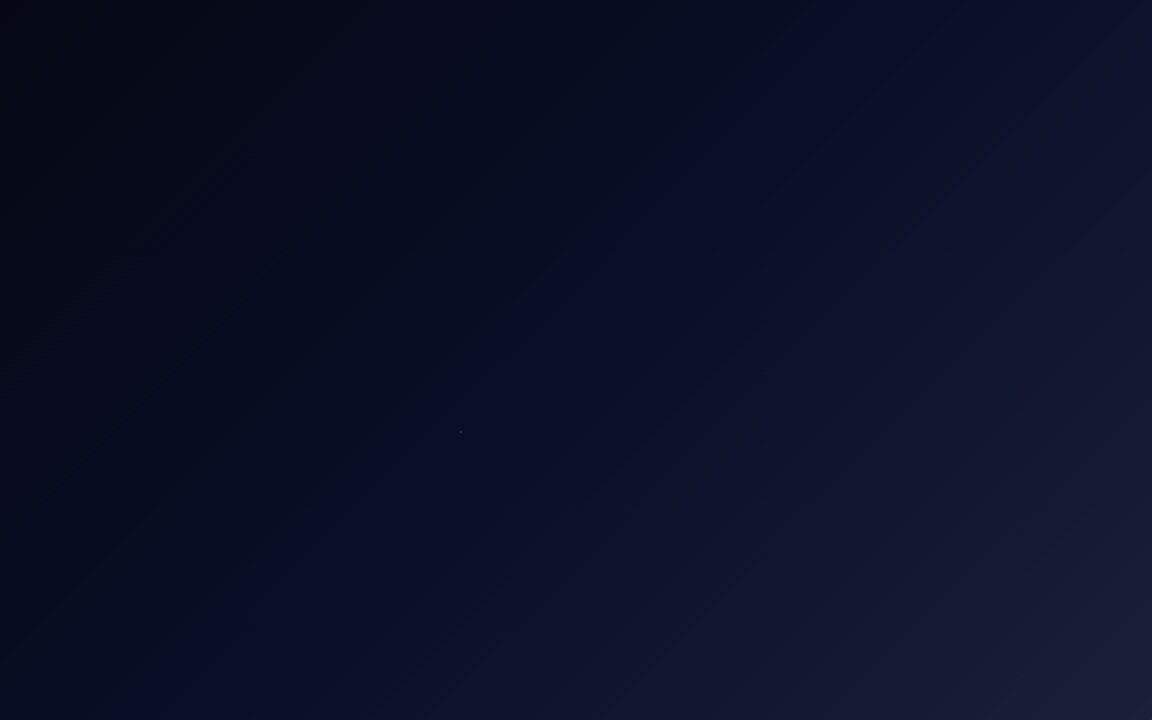
Test case: InventoryPanel › Modal Visibility › should close modal on close button click
Press i
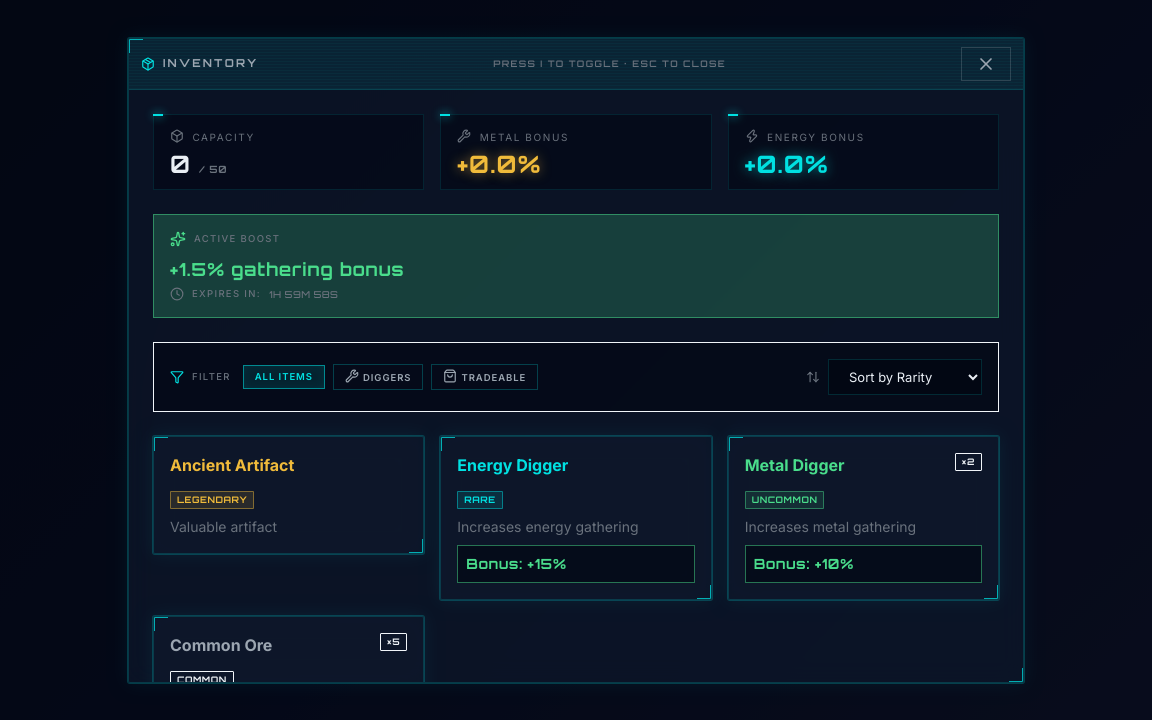
Expected: the text "Inventory" is shown, [163,55,258,72]
Click the button named "Close inventory".
click(986, 64)  # box [961,46,1011,80]
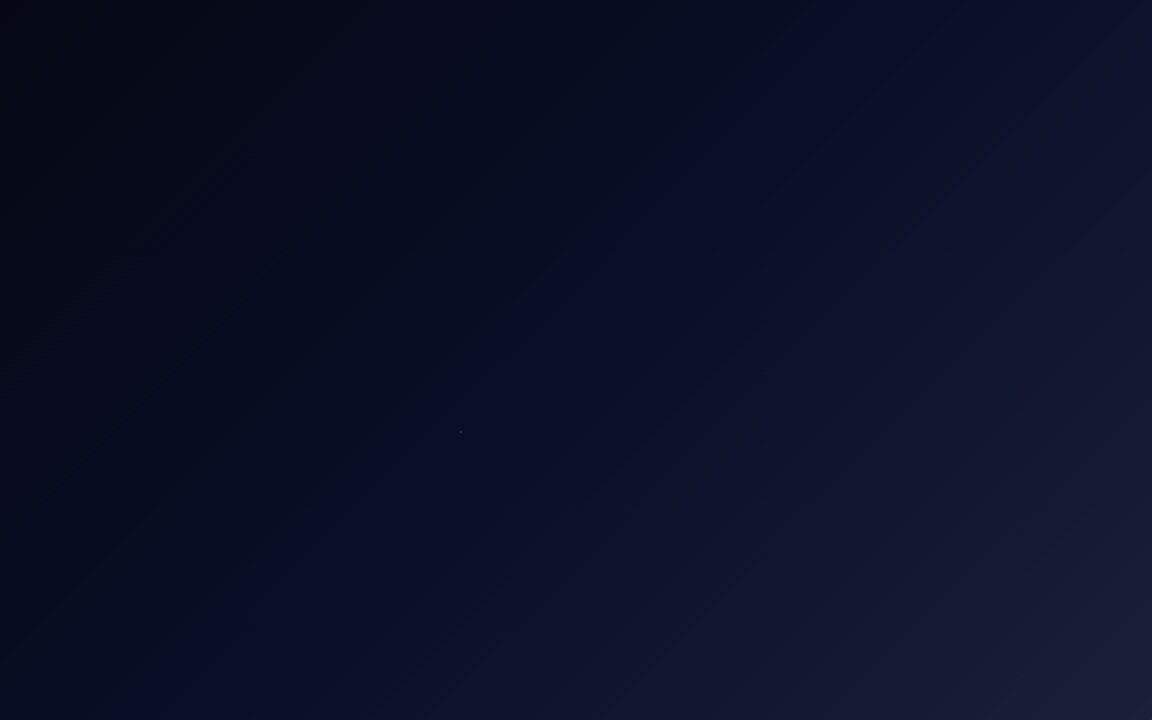
Expected: the text "Inventory" is gone
